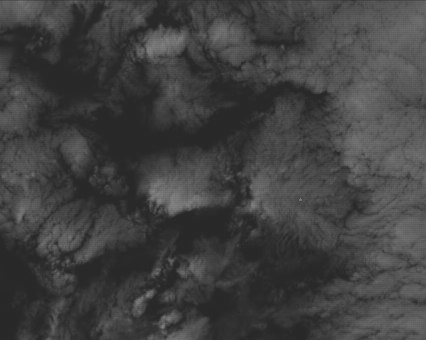dim target: (296, 196, 304, 203)
